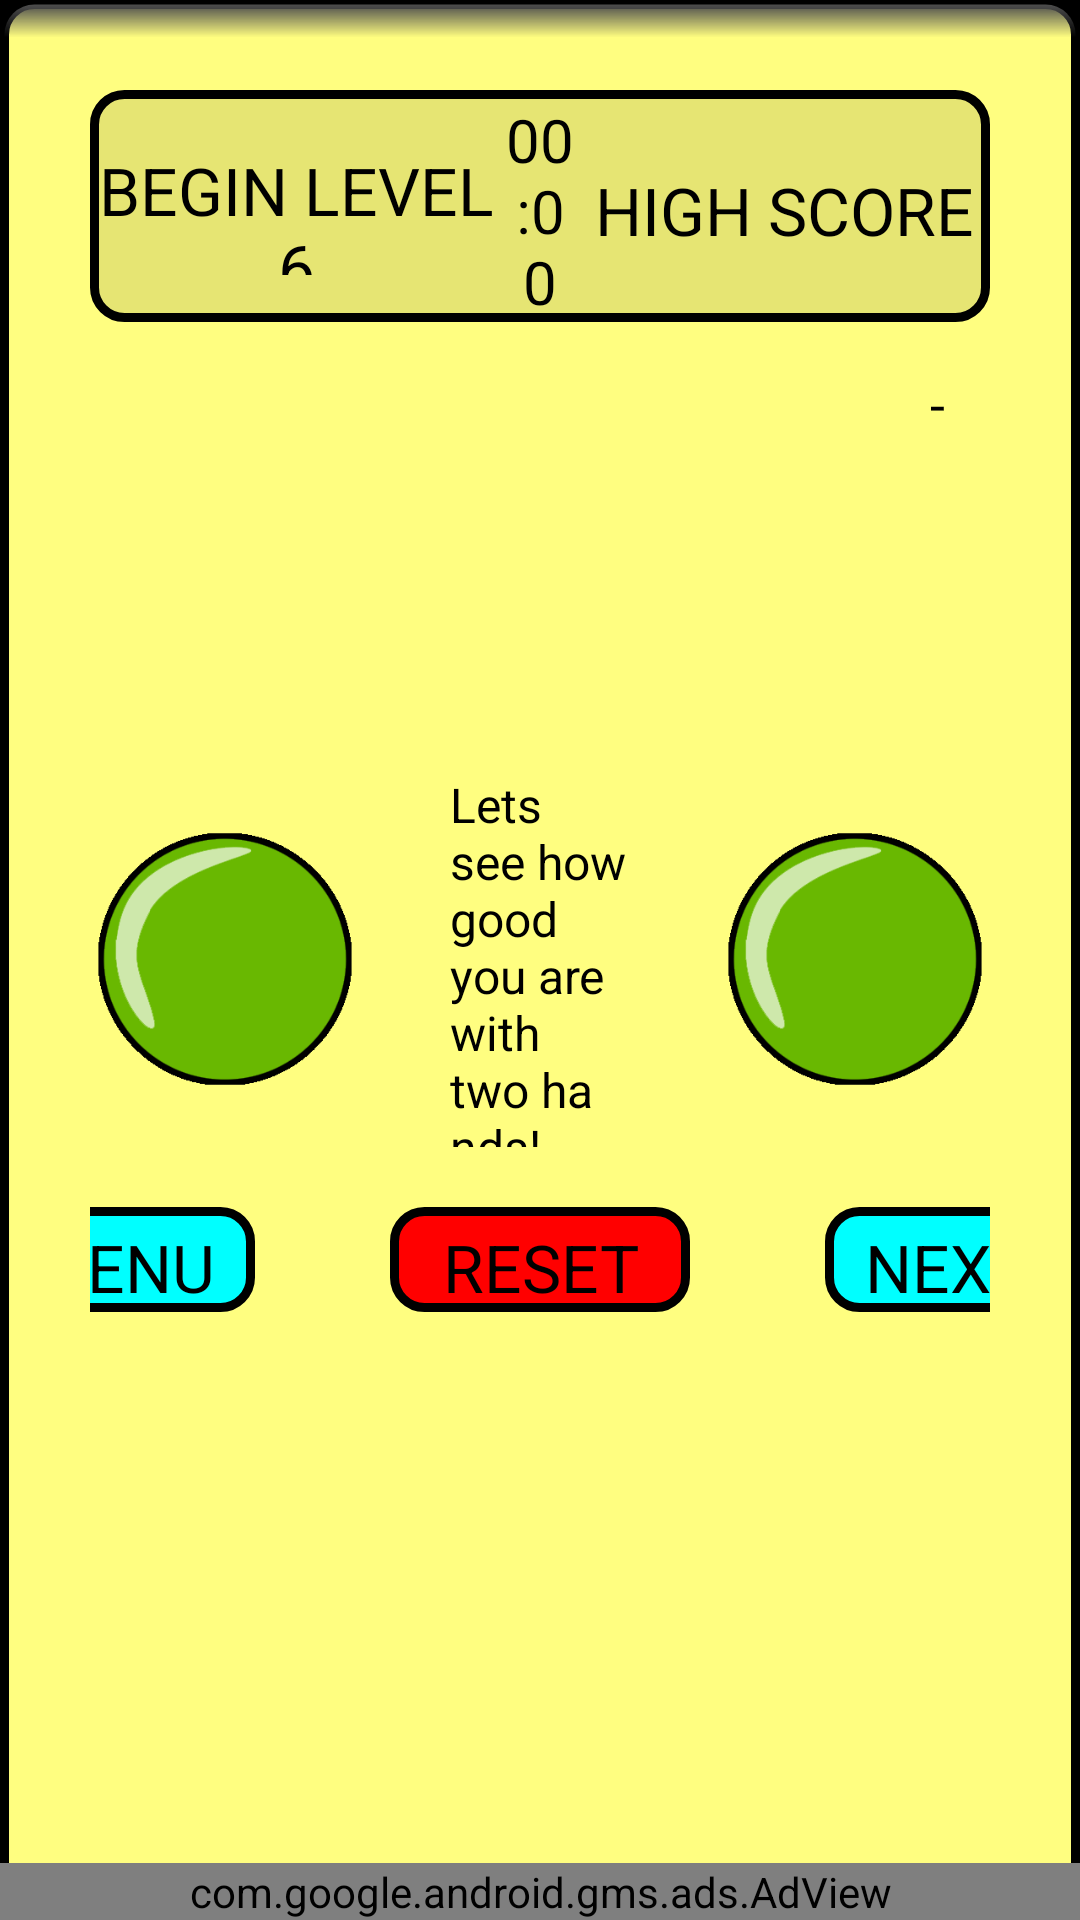

Where to tap for icons on this 1080 x 1920 app screen, as point (x, y):
greenbutton: point (225, 959), point (855, 959)
